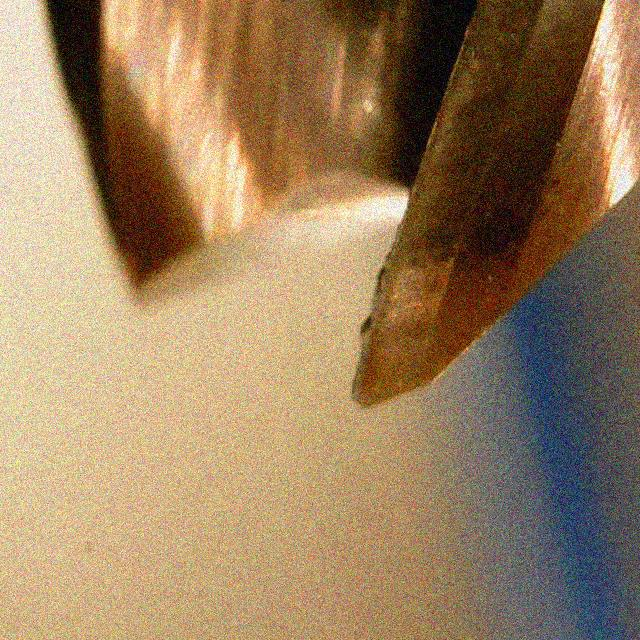Tool-wear-class-1: (324, 192, 510, 412)
